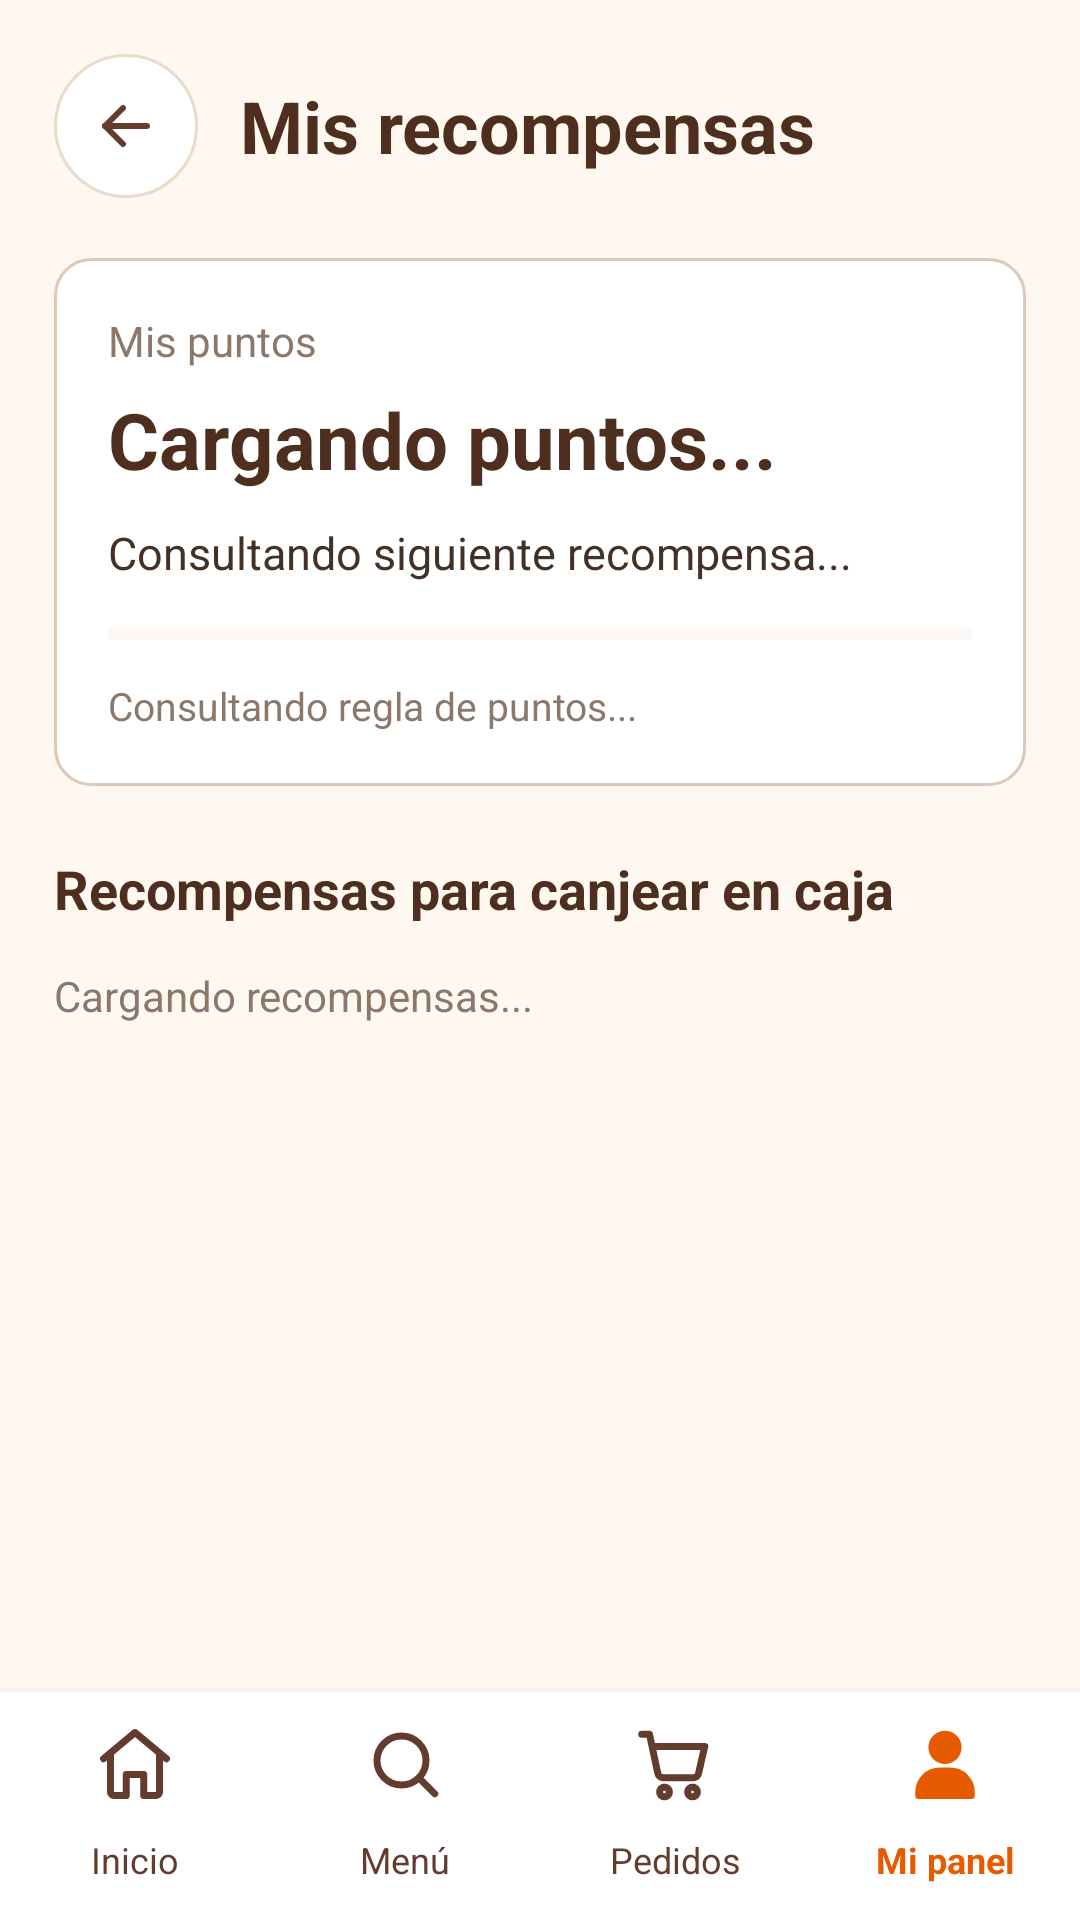

Icons on this 1080x1920 Android screen, each with its box as (x1, y1, x2, y2):
atras: (102, 105, 150, 147)
